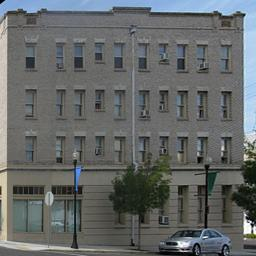building: (0, 0, 245, 248)
